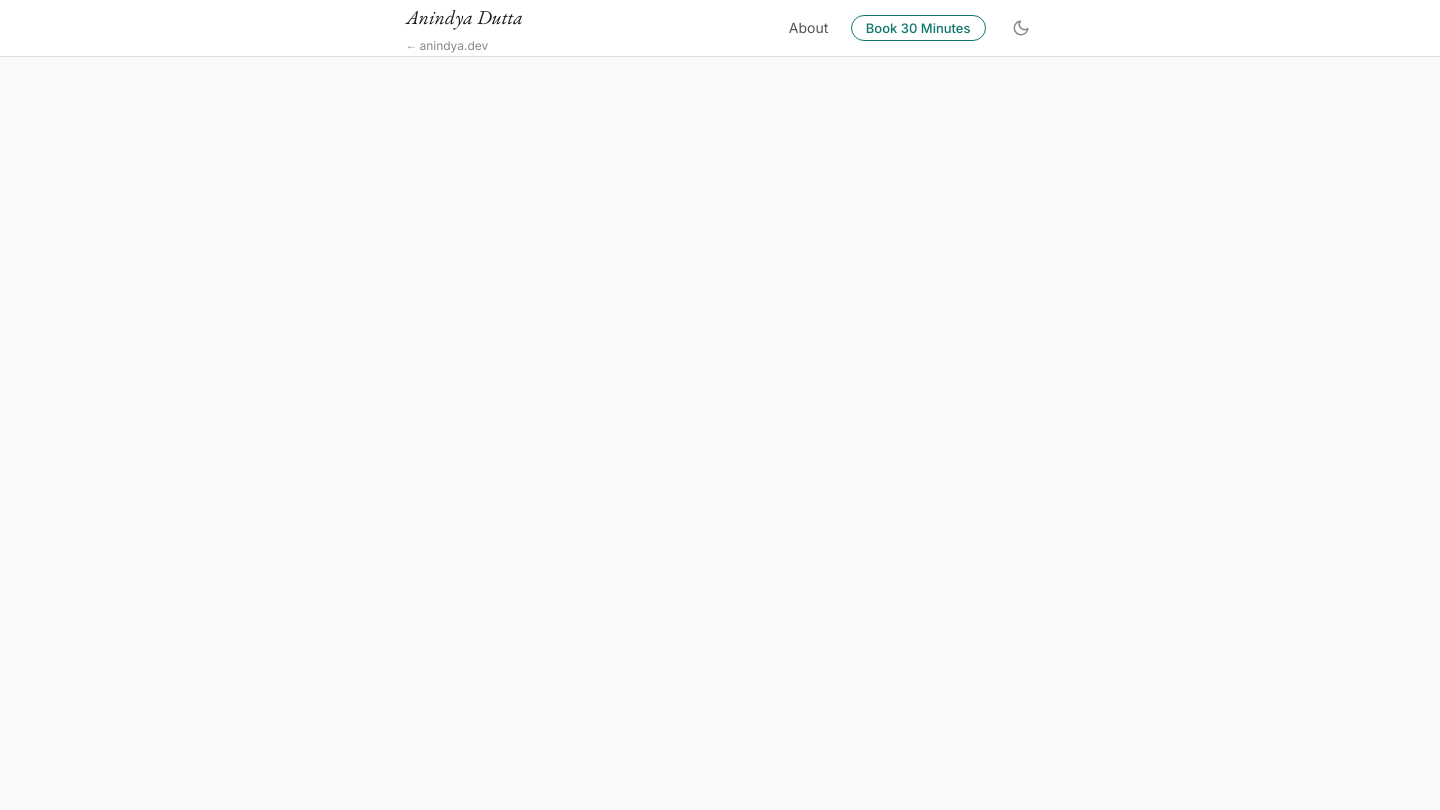
Test: Navbar — BookingModal integration › clicking "Book 30 Minutes" opens the BookingModal
The width and height of the screenshot is (1440, 810).
Step 1. Click the button "Book 30 Minutes" → {"x": 918, "y": 28}, box [851, 15, 986, 41]
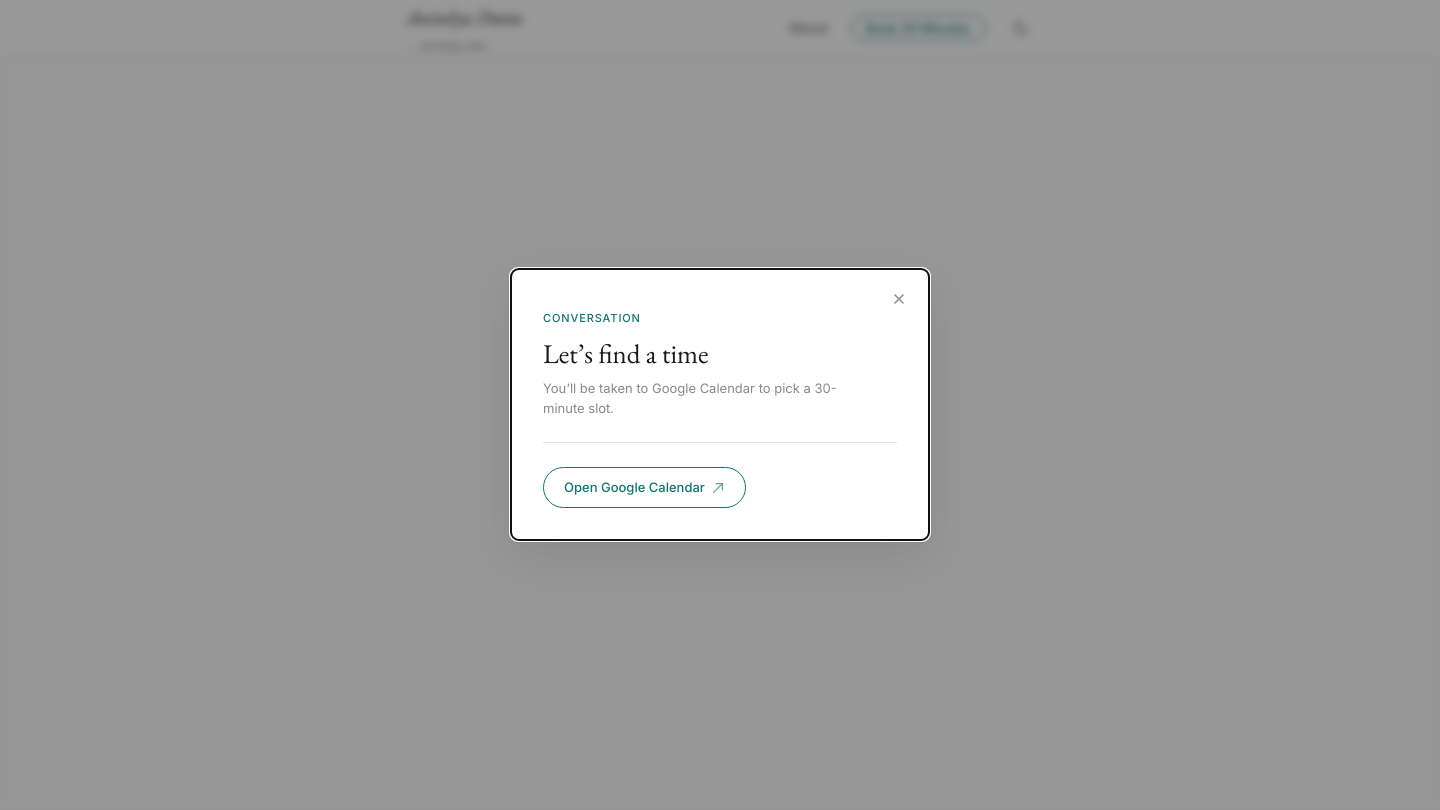
Now the dialog is shown, box [510, 268, 930, 542]
